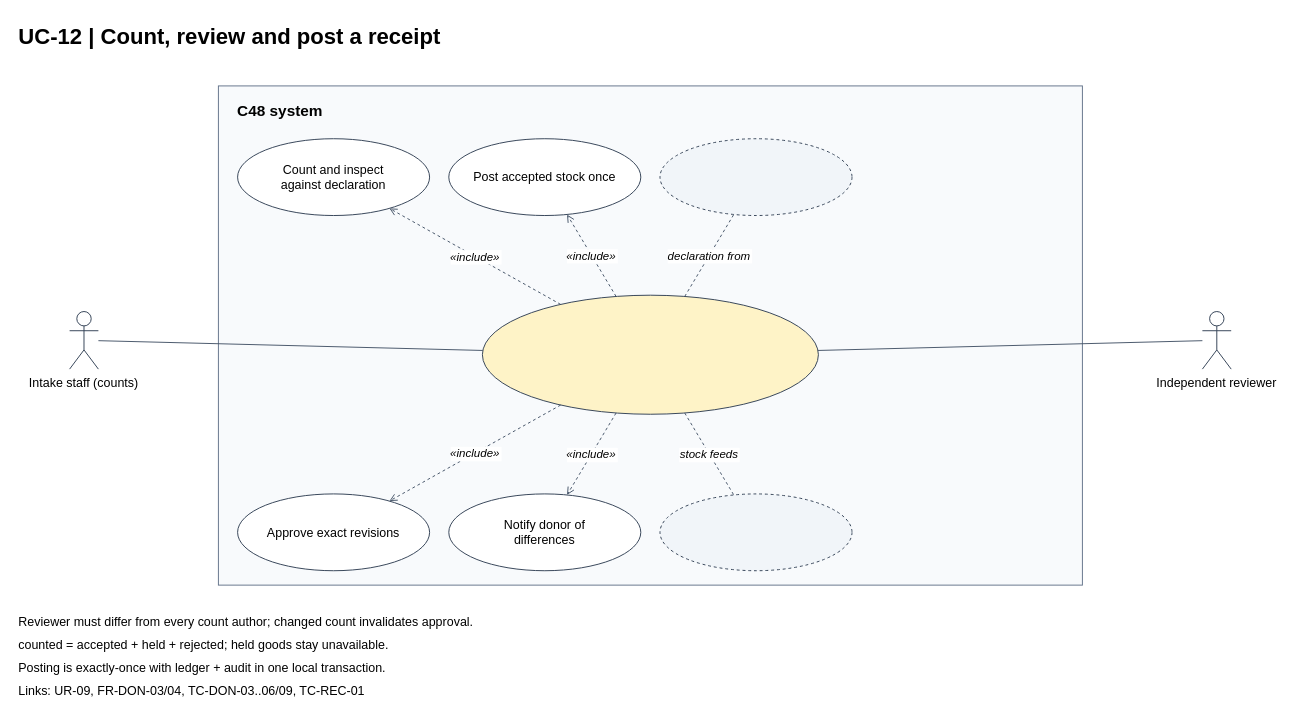
Some shapes in this 1300 by 714 pixel diagram are drawn without their labels. Here are the shapes that lost their labels. From the top down, the centre of each, then its label:
the point at 755,177: UC-11 Declare handover and track
the point at 649,354: UC-12 Count, review and post a receipt
the point at 755,532: UC-13 Distribution and handoff
